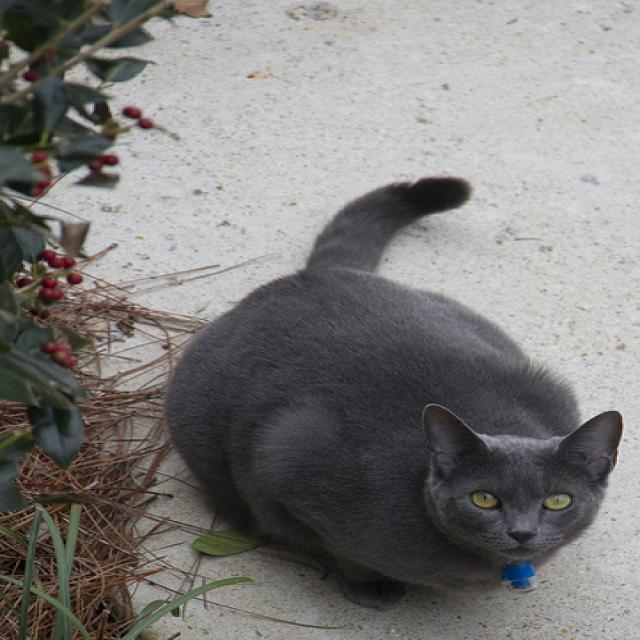Russian_Blue: (420, 401, 619, 558)
